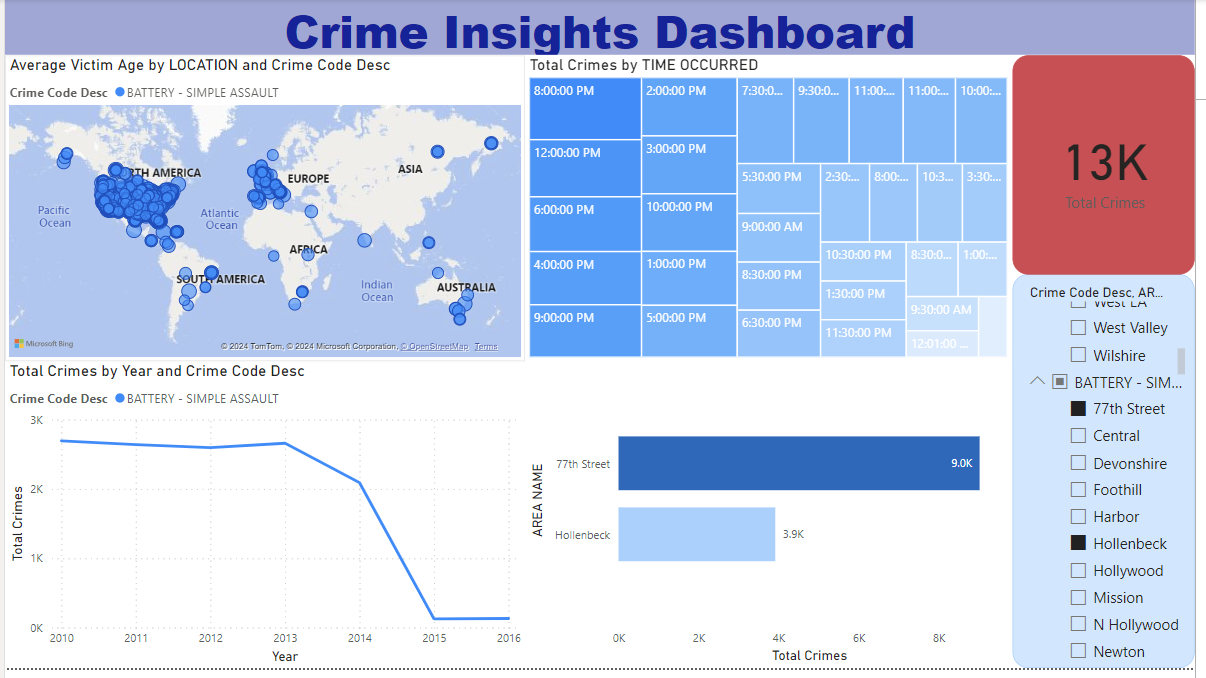

The dashboard page shown, as its layout file describes it:
{"tool":"tableau","page":{"name":"Dashboard ","canvas":[1000,1000],"units":"permille","ordinal":0},"visuals":[{"type":"worksheet","title":"Sheet 1","mark":"Automatic","box":[4.8,9.4,446.9,490.6]},{"type":"worksheet","title":"Sheet 2","mark":"Circle","box":[451.7,9.4,446.9,490.6]},{"type":"legend","title":"Sheet 1","param":"[federated.08u9k480c84z8u18jdf9m104pjmr].[__tableau_internal_object_id__].[cnt:C","box":[898.6,9.4,96.6,85.8]},{"type":"parameter","param":"[Parameters].[Parameter 1]","box":[898.6,95.2,96.6,65.8]},{"type":"worksheet","title":"Sheet 3","mark":"Automatic","rows":["Crime_Data_from_2010_to_2016 (Final).txt_5FD55762AD06408599B"],"cols":["Calculation_320037048593768453"],"box":[4.8,500,446.9,490.6]},{"type":"worksheet","title":"Sheet 4","mark":"Automatic","rows":["Premise Description"],"cols":["Crime_Data_from_2010_to_2016 (Final).txt_5FD55762AD06408599B"],"box":[451.7,500,446.9,490.6]}]}

Visuals, with their boxes on the dashboard's canvas, which has no fixed pixel size, in thousandths of its width and height (x1, y1, x2, y2). These are canvas units, not pixel positions in the 1206x678 screenshot, which may show the page scaled, cropped or inside an application window:
"Sheet 1" worksheet: <bbox>5, 9, 452, 500</bbox>
"Sheet 2" worksheet (Circle marks): <bbox>452, 9, 899, 500</bbox>
"Sheet 1" legend: <bbox>899, 9, 995, 95</bbox>
parameter: <bbox>899, 95, 995, 161</bbox>
"Sheet 3" worksheet: <bbox>5, 500, 452, 991</bbox>
"Sheet 4" worksheet: <bbox>452, 500, 899, 991</bbox>
